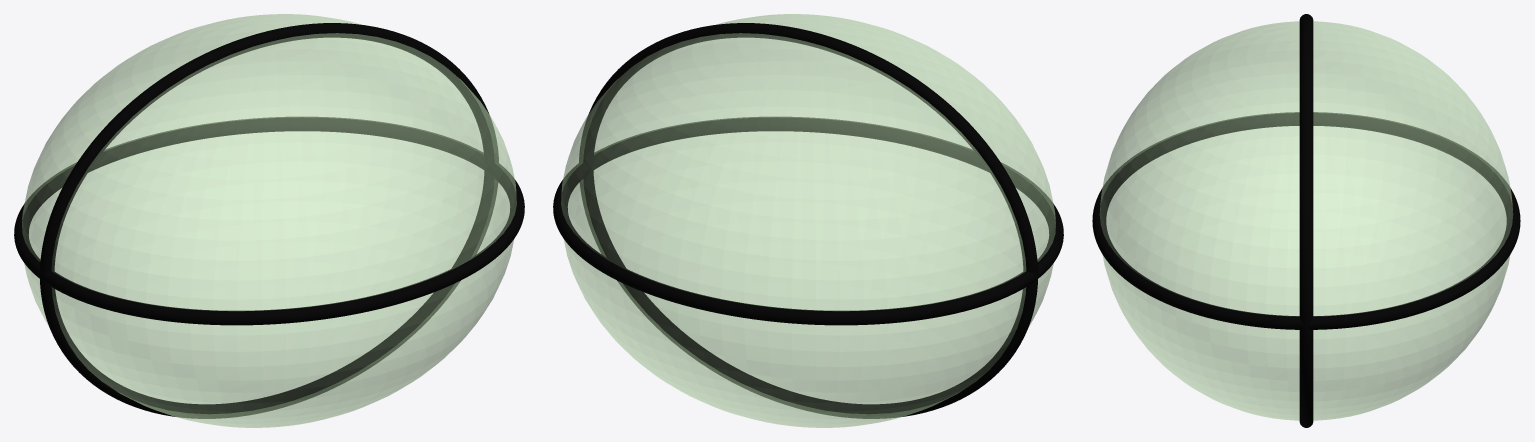
The model's file is ovaloid.fbx.
3 views of the same model, side by side, from view 1: azimuth 30°, elevation 25°; view 2: azimuth 150°, elevation 25°; view 3: azimuth 270°, elevation 25° (orthographic). The views are drawn at different scales.
Parts seen in each view (by area): view 1: ReferenceEllipsoid, meridian_curve_obj, equator_curve_obj; view 2: ReferenceEllipsoid, meridian_curve_obj, equator_curve_obj; view 3: ReferenceEllipsoid, equator_curve_obj, meridian_curve_obj.
Part boxes in pixels (bbox=[...]): ReferenceEllipsoid: bbox=[22, 14, 516, 427]; meridian_curve_obj: bbox=[40, 23, 498, 418]; equator_curve_obj: bbox=[14, 117, 524, 325]; ReferenceEllipsoid: bbox=[561, 14, 1055, 427]; meridian_curve_obj: bbox=[579, 23, 1037, 418]; equator_curve_obj: bbox=[553, 117, 1063, 325]; ReferenceEllipsoid: bbox=[1100, 21, 1512, 420]; equator_curve_obj: bbox=[1092, 112, 1520, 329]; meridian_curve_obj: bbox=[1299, 14, 1313, 427].
Bounding box in the file's own units: 288 × 228 × 248.
